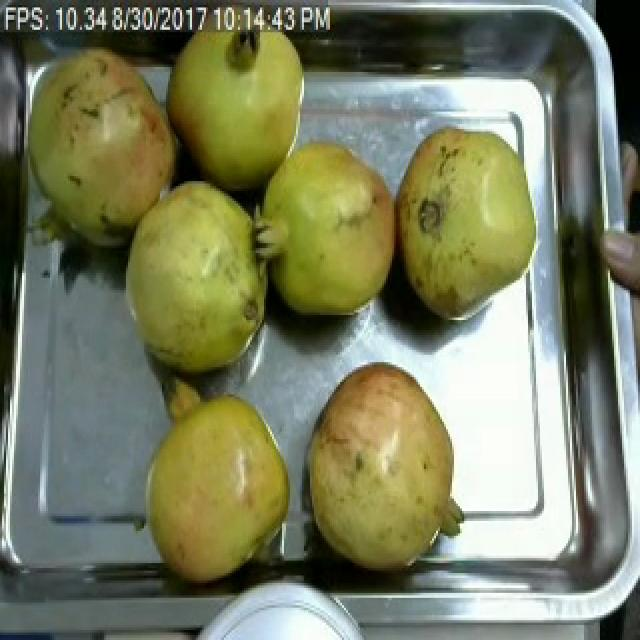fruit: (292, 350, 470, 580), (120, 374, 304, 596), (16, 27, 186, 253), (112, 168, 280, 390), (382, 112, 546, 337), (256, 124, 404, 340), (156, 10, 314, 193)
